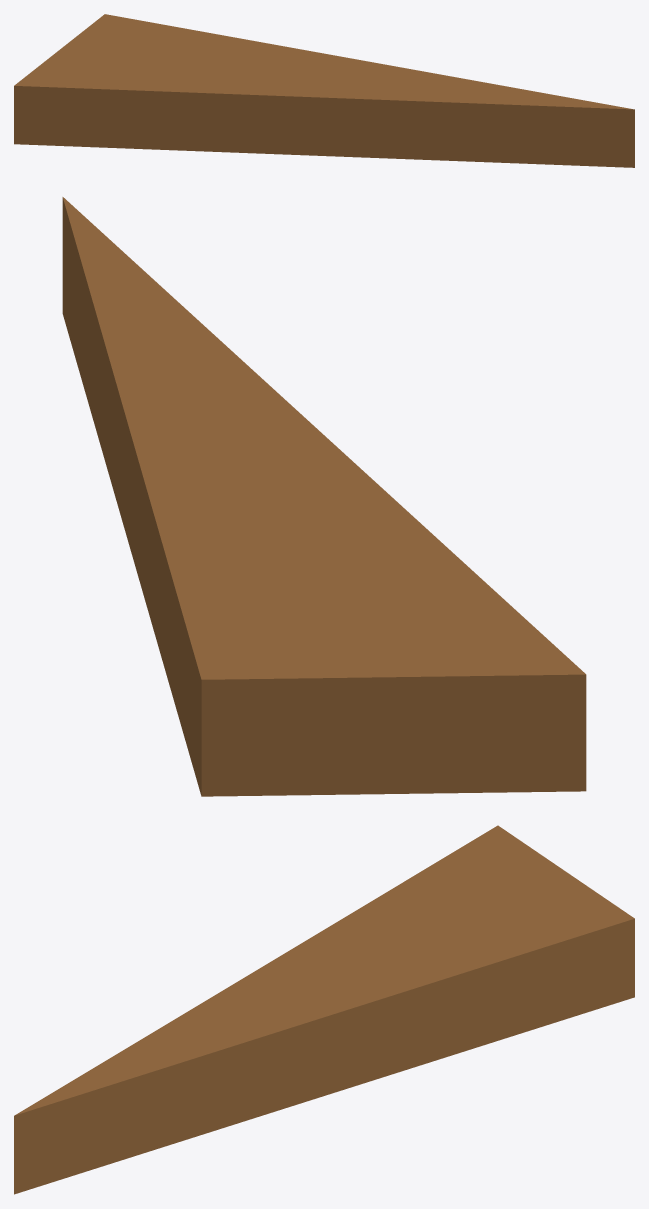
Rendered from x_proval_00_252_1_rmstrd.fbx.
3 renders of one model, top to bottom at view 1: azimuth 30°, elevation 25°; view 2: azimuth 150°, elevation 25°; view 3: azimuth 270°, elevation 25°, orthographic. The views are drawn at different scales.
Parts seen in each view (by area): view 1: x_proval_00_252_1_rmstrd1; view 2: x_proval_00_252_1_rmstrd1; view 3: x_proval_00_252_1_rmstrd1.
Boxes of the visible parts, x1=… form: x_proval_00_252_1_rmstrd1: x1=14, y1=14, x2=634, y2=167; x_proval_00_252_1_rmstrd1: x1=62, y1=197, x2=586, y2=796; x_proval_00_252_1_rmstrd1: x1=14, y1=825, x2=634, y2=1194.
Size of the model in its own units: 1.58 by 0.2 by 1.43.
